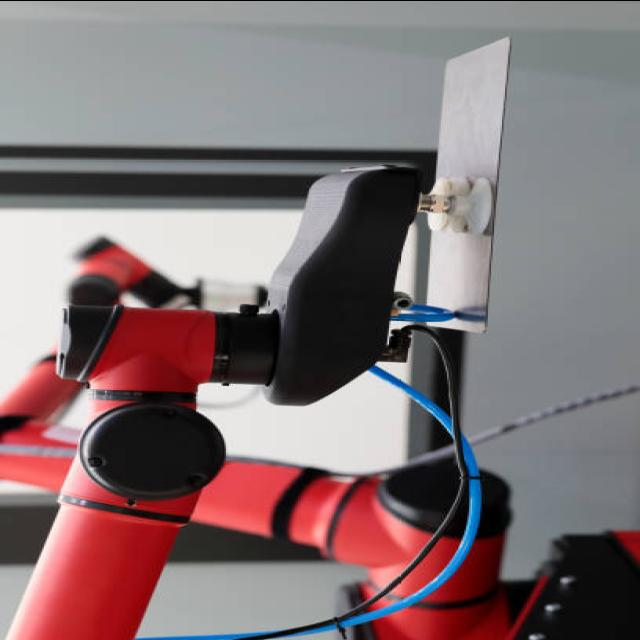Robotic-arm: (0, 151, 516, 640)
